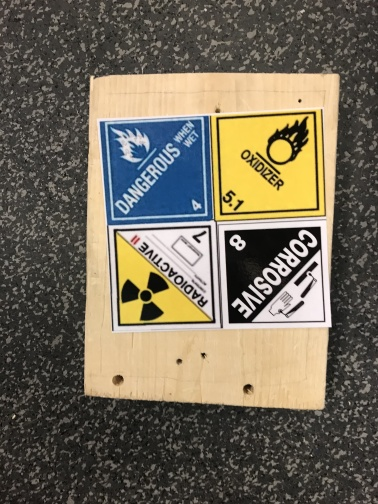Corrosive: (221, 220, 334, 328)
DangerousWhenWet: (99, 116, 214, 225)
Oxidizer: (212, 107, 326, 218)
Radioactive: (108, 222, 220, 330)
